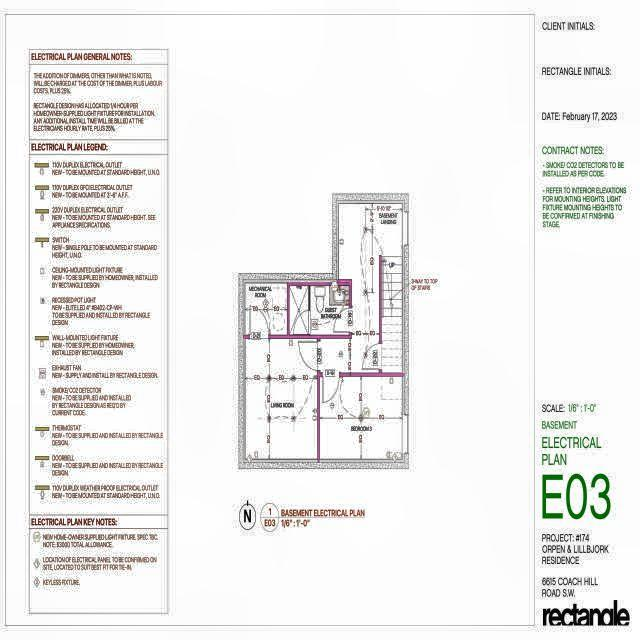room: (245, 339, 317, 459), (320, 377, 402, 459), (245, 283, 287, 335), (310, 286, 349, 335), (289, 286, 308, 335)
